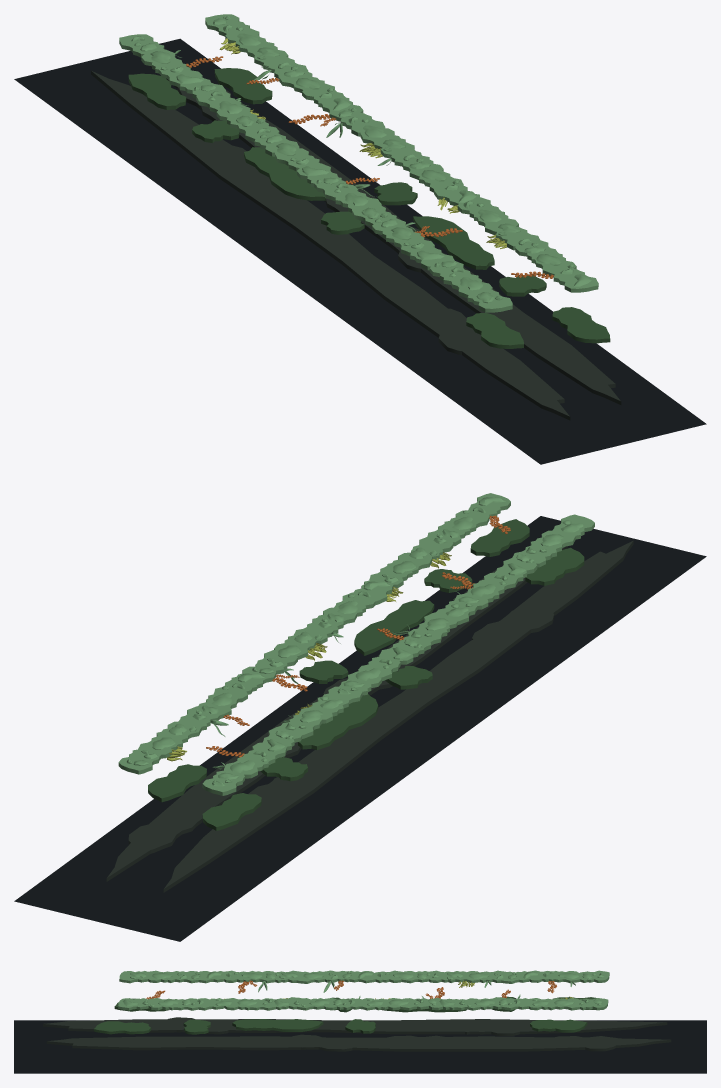
Rendered from Light_world.fbx.
The picture shows the model from 3 angles, top to bottom: view 1: azimuth 30°, elevation 25°; view 2: azimuth 150°, elevation 25°; view 3: azimuth 270°, elevation 25°; orthographic projection. The views are drawn at different scales.
Visible parts, largest first — view 1: Light_background, Light_bottom_right, Light_top_border_right, Light_top_border_left, Light_middle_left, Light_middle_right, Light_bottom_left, Light_top_rocks_right, Light_top_rocks_left; view 2: Light_background, Light_bottom_right, Light_top_border_right, Light_top_border_left, Light_middle_left, Light_middle_right, Light_bottom_left, Light_top_rocks_right, Light_top_rocks_left; view 3: Light_background, Light_bottom_left, Light_bottom_right, Light_top_border_left, Light_top_border_right, Light_middle_left, Light_top_rocks_left, Light_top_rocks_right, Light_middle_right.
Part boxes in pixels (<box>): Light_background: <box>14,38,706,464</box>; Light_bottom_right: <box>91,70,570,420</box>; Light_top_border_right: <box>119,34,512,312</box>; Light_top_border_left: <box>205,14,598,292</box>; Light_middle_left: <box>214,68,610,343</box>; Light_middle_right: <box>128,73,523,348</box>; Light_bottom_left: <box>150,66,621,404</box>; Light_top_rocks_right: <box>131,36,502,303</box>; Light_top_rocks_left: <box>213,16,591,286</box>; Light_background: <box>14,516,706,941</box>; Light_bottom_right: <box>163,540,633,892</box>; Light_top_border_right: <box>202,514,594,795</box>; Light_top_border_left: <box>118,493,510,774</box>; Light_middle_left: <box>148,519,529,802</box>; Light_middle_right: <box>202,547,584,830</box>; Light_bottom_left: <box>106,546,567,881</box>; Light_top_rocks_right: <box>212,520,583,786</box>; Light_top_rocks_left: <box>127,497,505,765</box>; Light_background: <box>14,1020,706,1073</box>; Light_bottom_left: <box>46,1034,671,1051</box>; Light_bottom_right: <box>43,1017,667,1035</box>; Light_top_border_left: <box>118,997,608,1010</box>; Light_top_border_right: <box>119,970,609,983</box>; Light_middle_left: <box>94,1019,587,1034</box>; Light_top_rocks_left: <box>122,998,602,1006</box>; Light_top_rocks_right: <box>130,971,603,979</box>; Light_middle_right: <box>114,996,596,1012</box>.
Size of the model in its own units: 8971 by 4704 by 49214.
